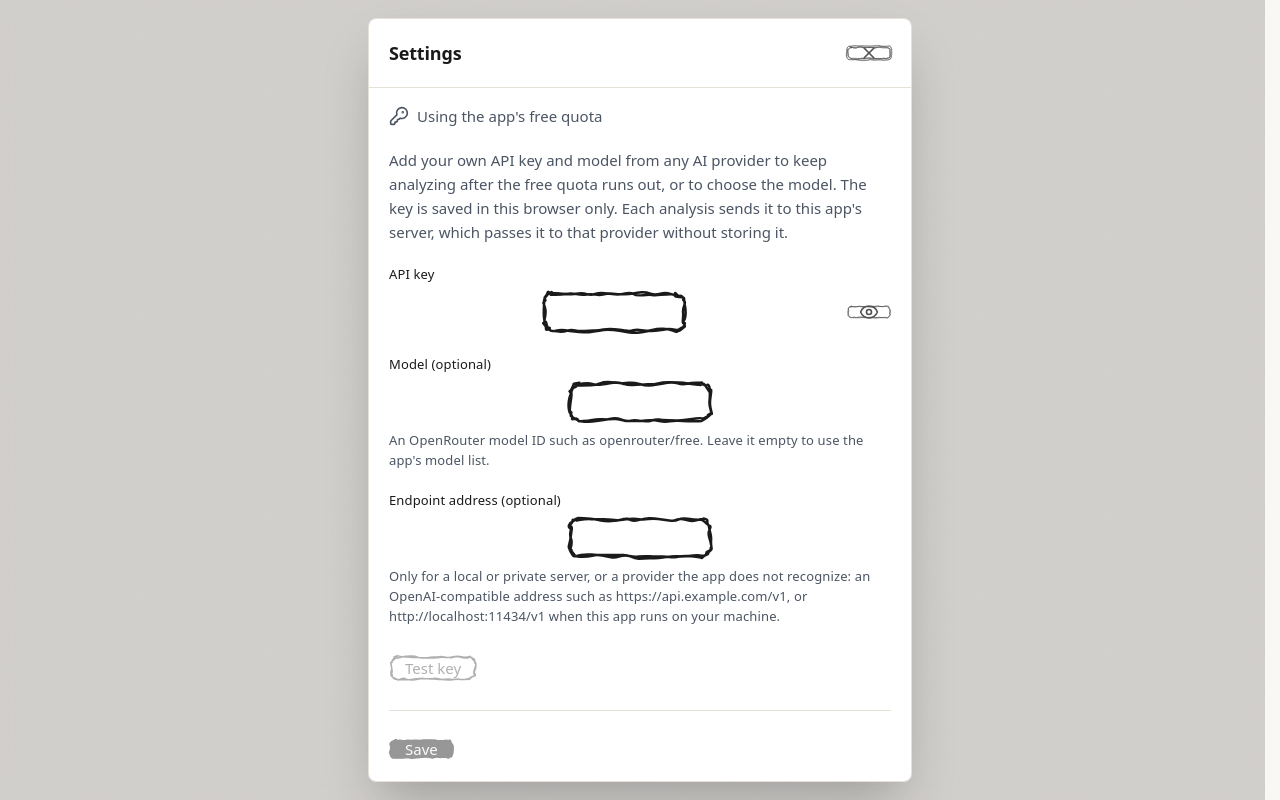
Test: ByokModal (FEAT-05, StyleGuide §7.3) › offers the models a successful test returns (T22)
The image size is (1280, 800).
Type "gsk_test-0000" into the password field labelled "API key" at point(614, 312), box [389,290,839,334]
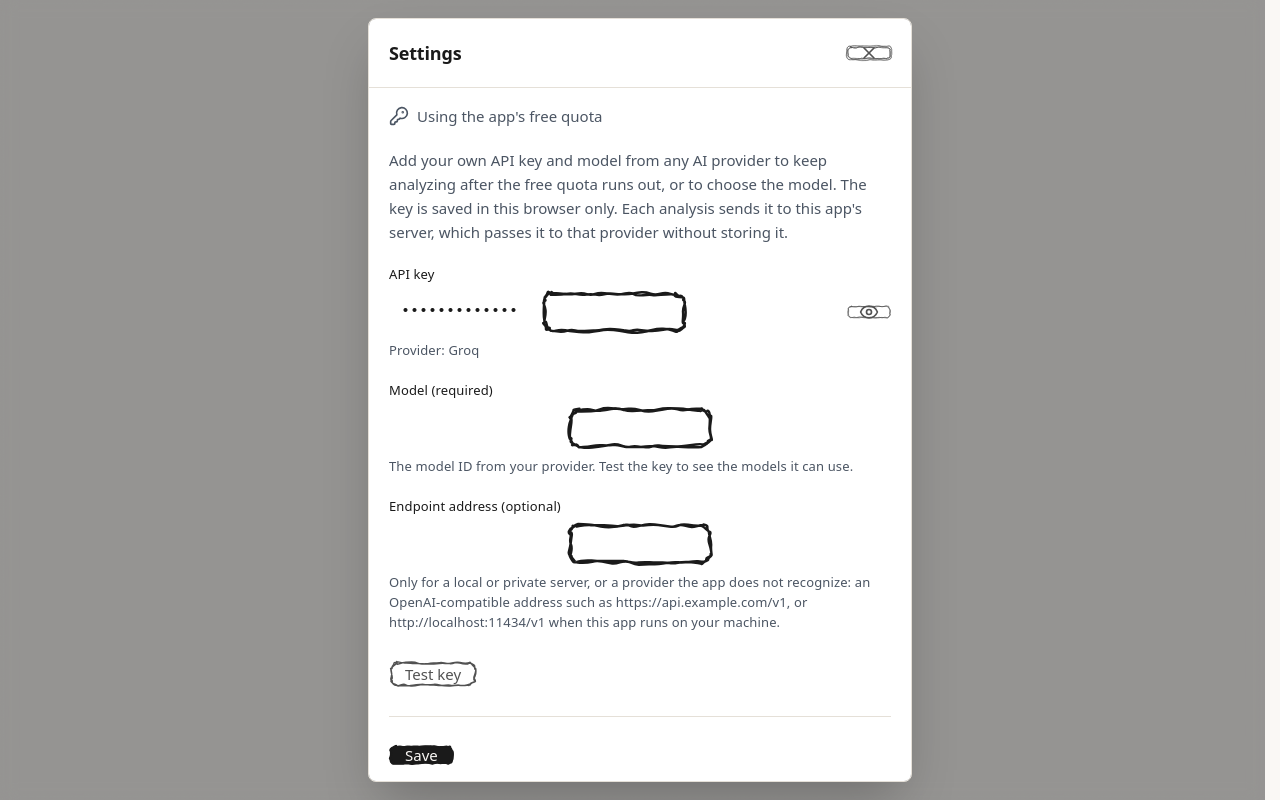
Click the button "Test key" at point(433, 674), box [389,652,477,696]
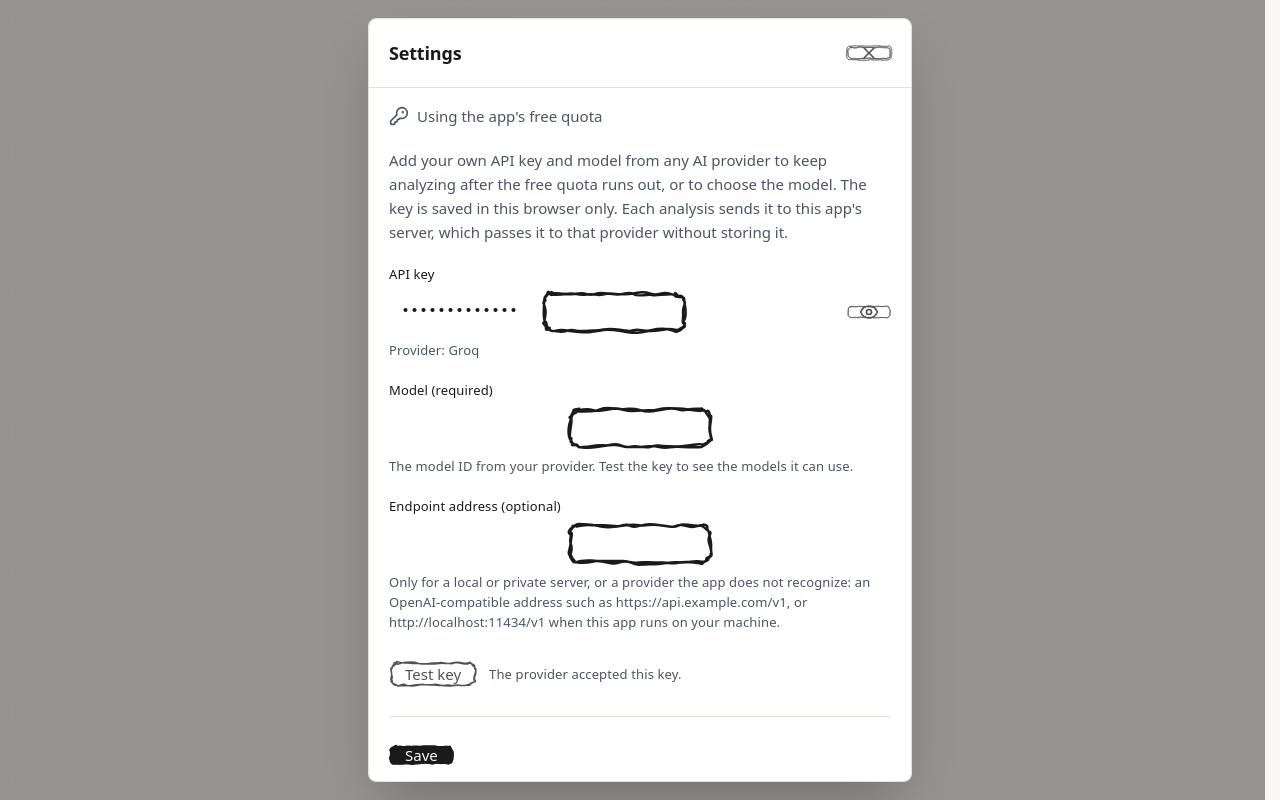
Result: the text "The provider accepted this key." is shown at [489,664,682,684]
